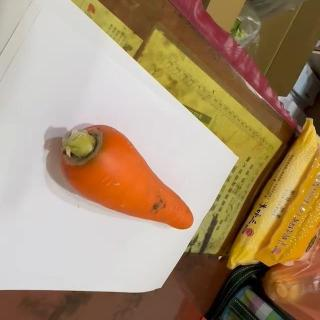carrot: (59, 123, 195, 230)
